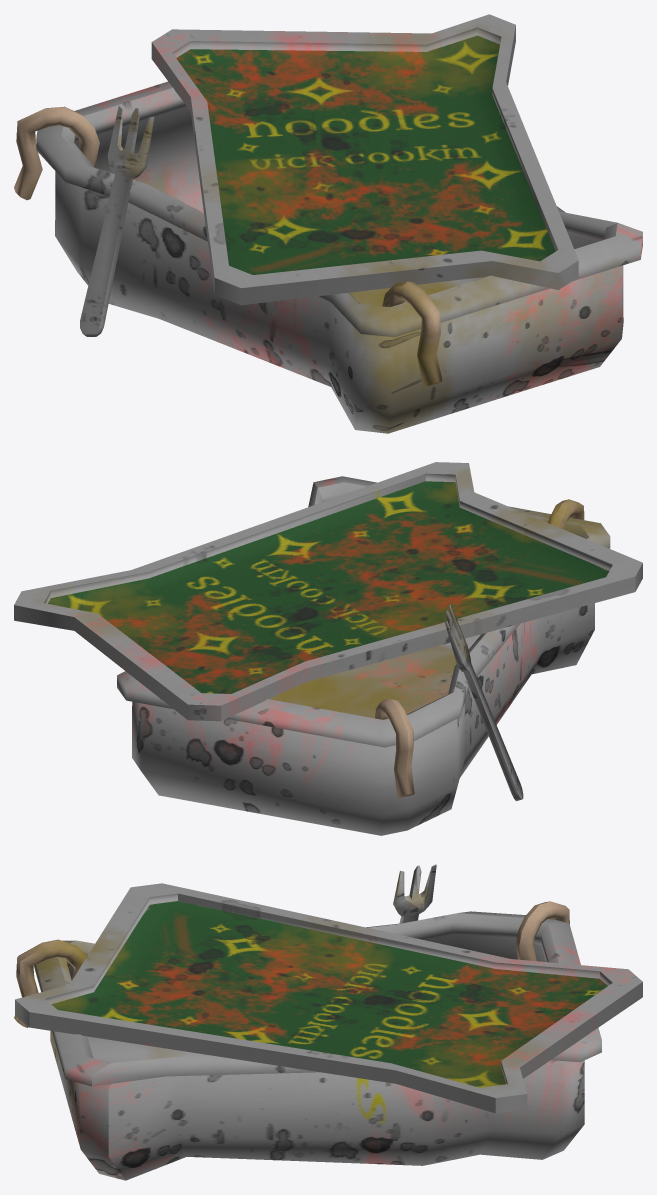
Rendered from доши.fbx.
3 renders of one model, top to bottom at view 1: azimuth 30°, elevation 25°; view 2: azimuth 150°, elevation 25°; view 3: azimuth 270°, elevation 25°, orthographic. The views are drawn at different scales.
Visible parts, largest first — view 1: Куб.001; view 2: Куб.001; view 3: Куб.001.
Boxes of the visible parts, x1,y1,x2,y2 form: Куб.001: (14,14,642,433); Куб.001: (14,462,642,835); Куб.001: (14,864,642,1180).
Size of the model in its own units: 236 by 94 by 289.
Materials: 1 (1 with a texture image).
